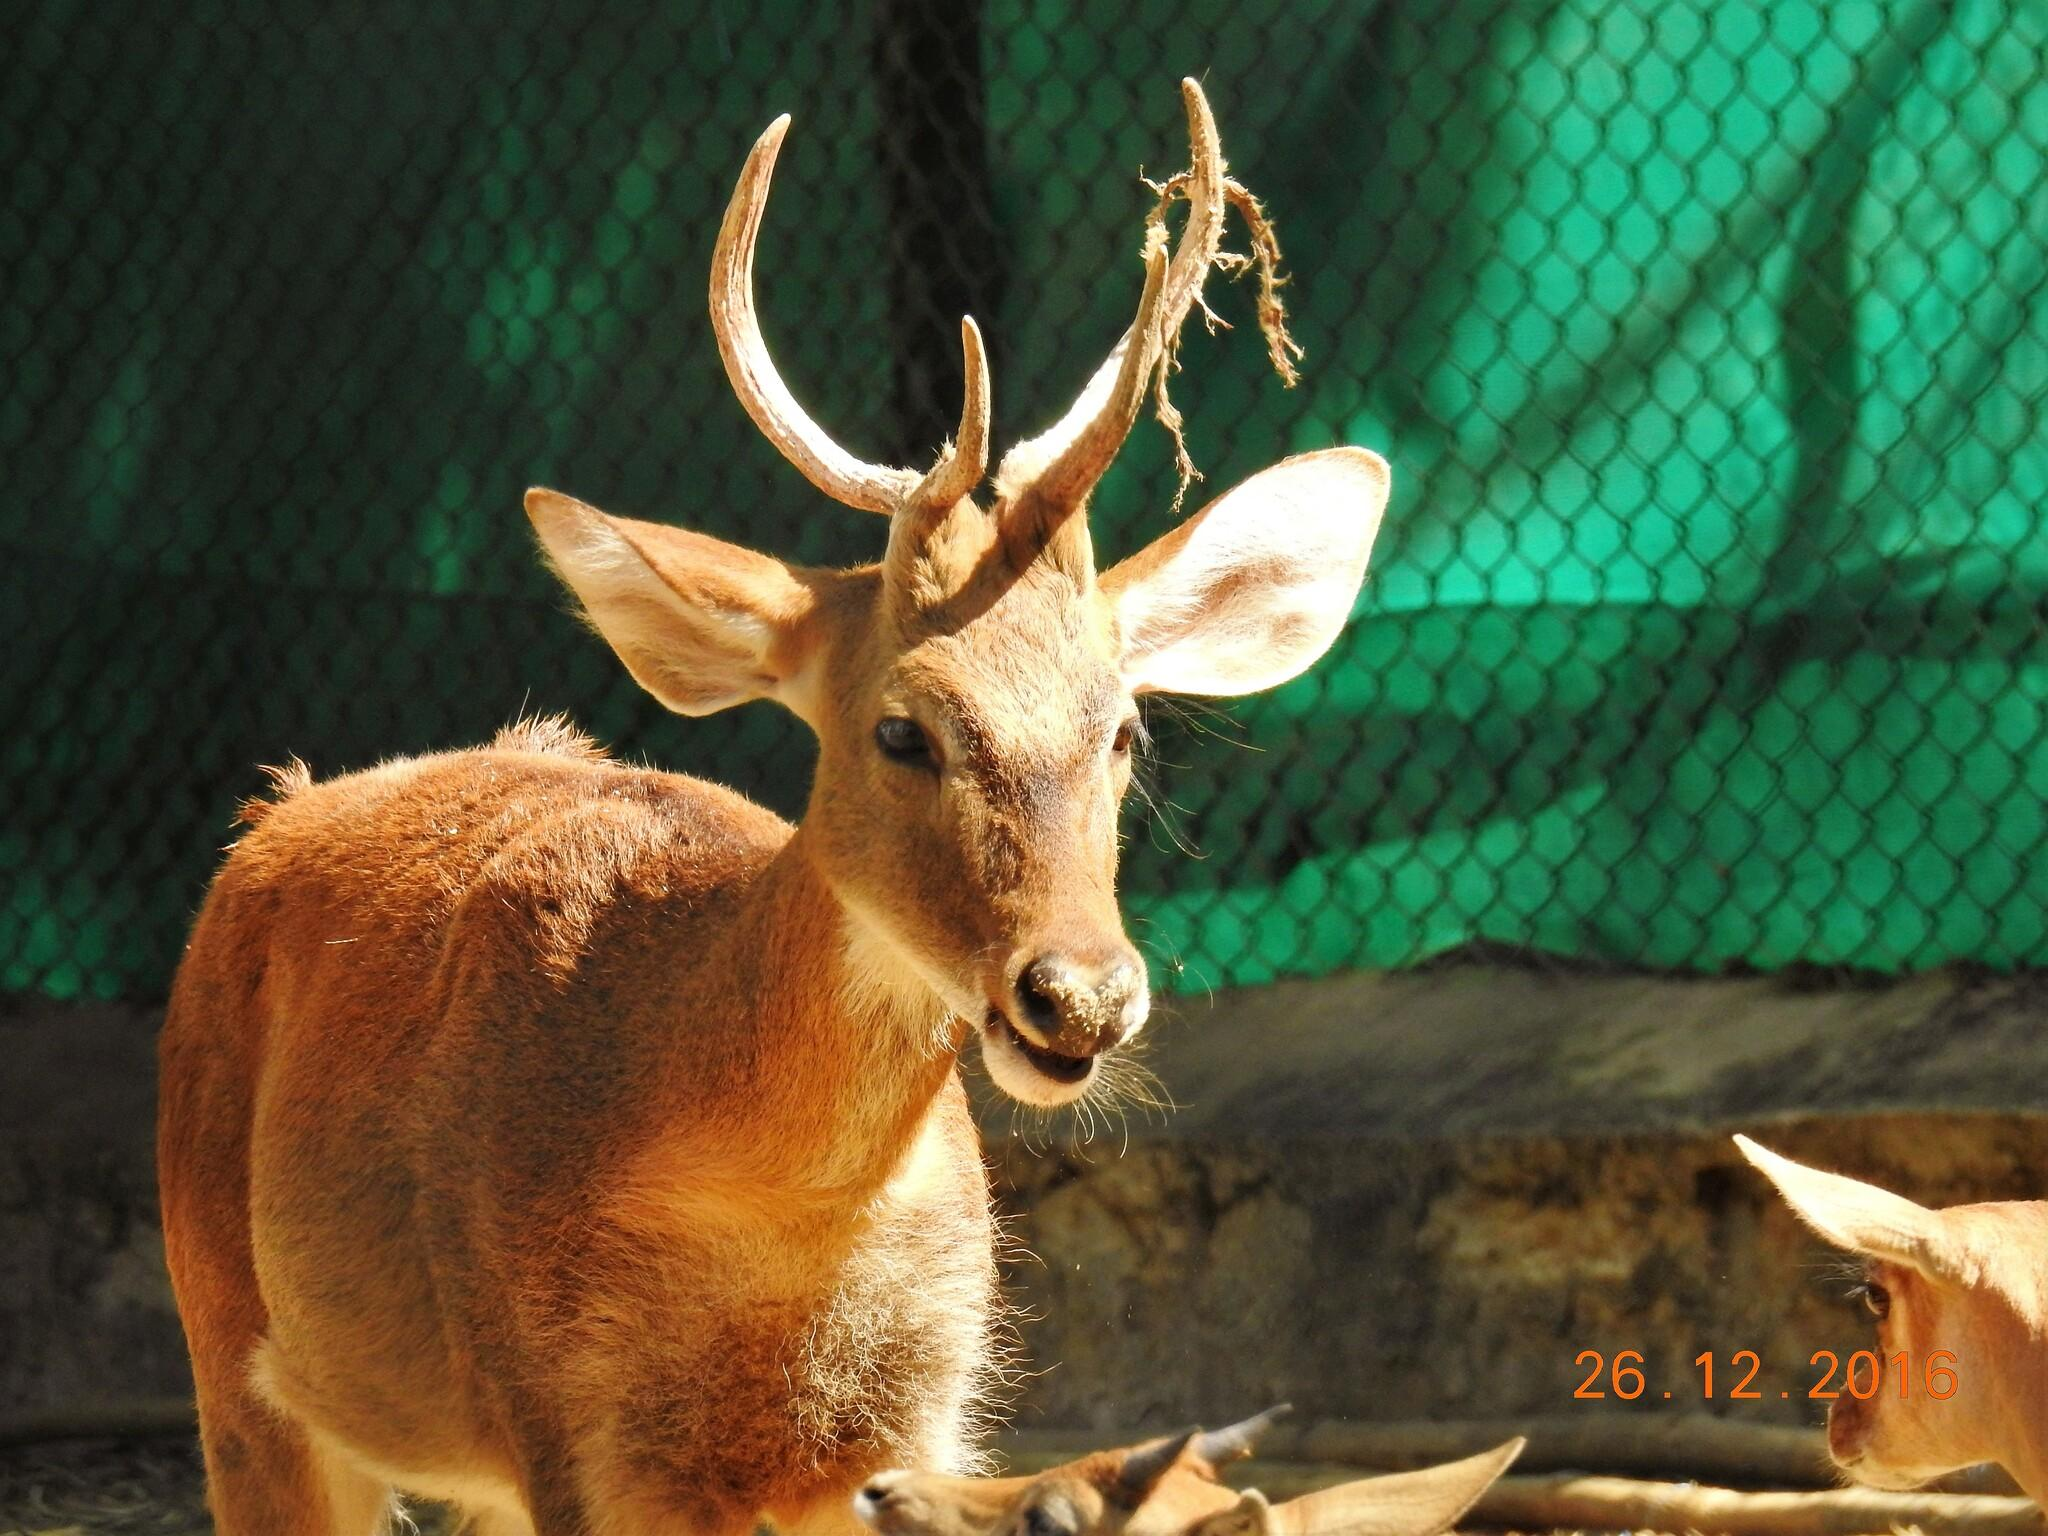Deer: (158, 92, 1388, 1531), (1734, 1134, 2046, 1517)
